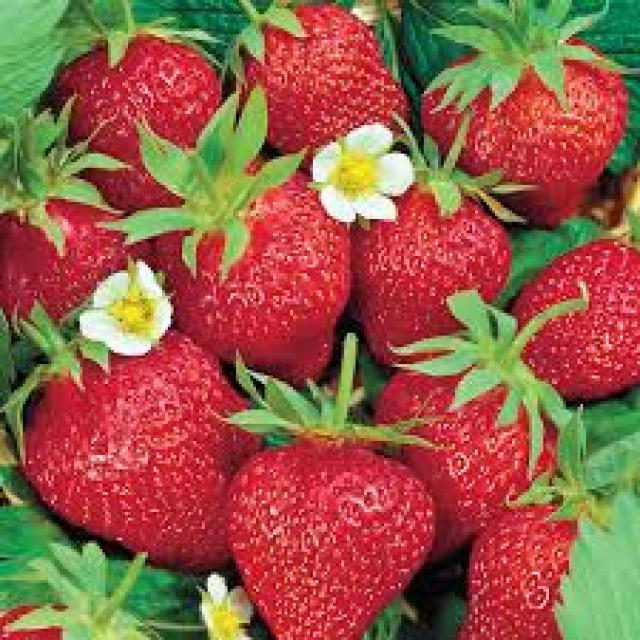strawberry: (24, 351, 228, 568), (232, 449, 432, 640), (487, 38, 626, 228), (187, 232, 347, 383), (354, 222, 506, 370), (267, 4, 412, 131), (58, 28, 219, 126)
